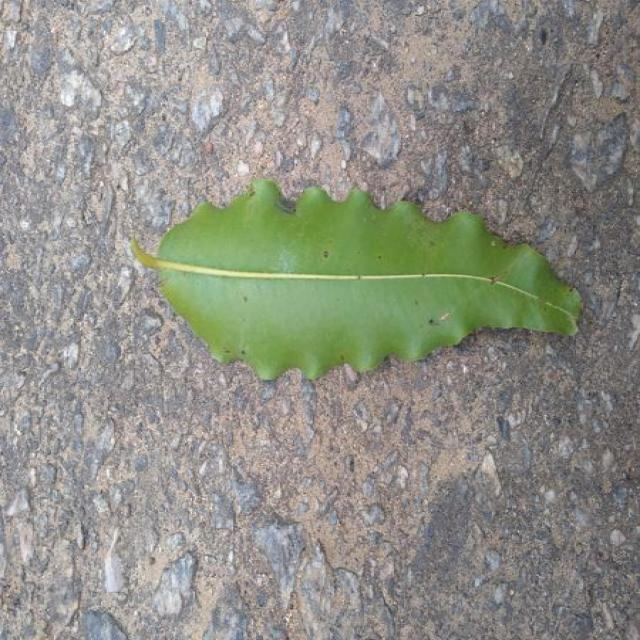ashoka: (132, 180, 580, 379)
